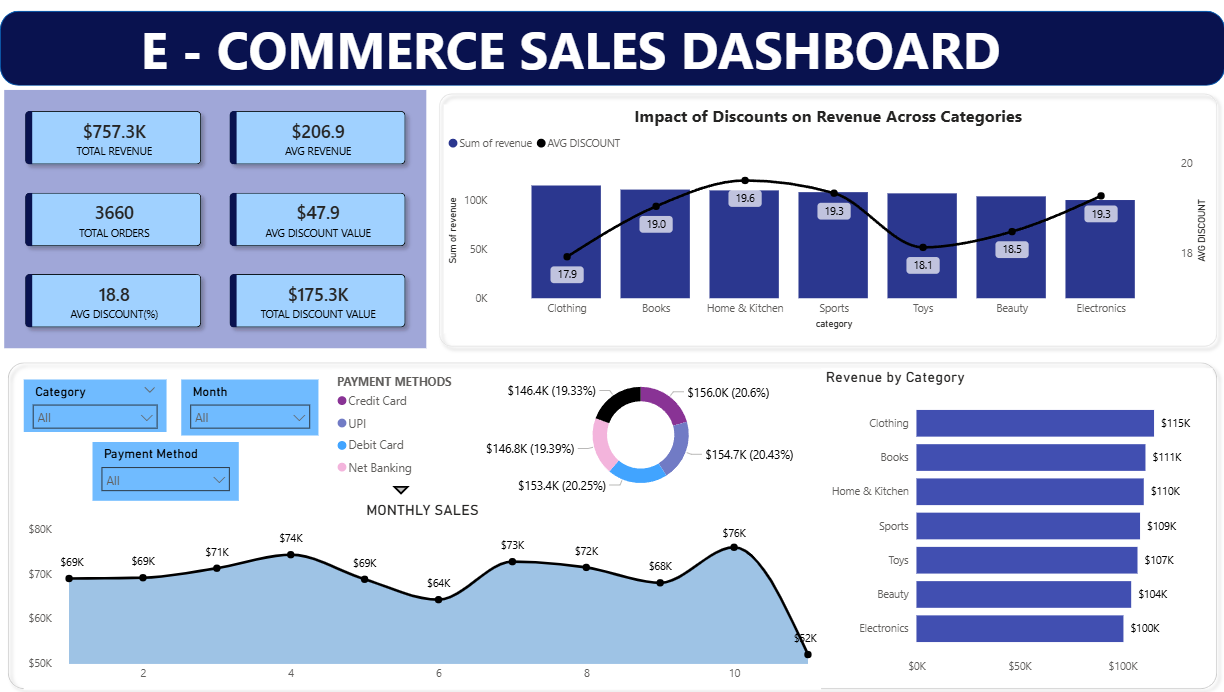

This screenshot's page, from the dashboard's own definition file:
{"tool":"powerbi","page":{"name":"Page 1","canvas":[1400,800],"ordinal":0},"visuals":[{"type":"shape","box":[0,15.7,1400,85.7],"z":0},{"type":"textbox","box":[155,0,1245,115],"z":1000},{"type":"cardVisual","fields":{"Data":["cleaned_ecommerce.TOTAL REVENUE","cleaned_ecommerce.AVG REVENUE","cleaned_ecommerce.NO OF USERS","cleaned_ecommerce.AVG DISCOUNT VALUE","cleaned_ecommerce.AVG DISCOUNT","cleaned_ecommerce.TOTAL DISCOUNT VALUE"]},"box":[0,101.4,492.9,307.1],"z":2000},{"type":"shape","box":[492.9,101.4,907.1,307.1],"z":3000},{"type":"shape","box":[0,408.6,1400,391.4],"z":5000},{"type":"lineChart","title":"MONTHLY SALES","fields":{"Category":["cleaned_ecommerce.month"],"Y":["cleaned_ecommerce.TOTAL REVENUE"]},"box":[27.1,575.7,911.4,215.7],"z":6000},{"type":"donutChart","fields":{"Category":["cleaned_ecommerce.payment_method"],"Y":["cleaned_ecommerce.TOTAL REVENUE"]},"box":[380,425.7,558.6,150],"z":7000},{"type":"slicer","fields":{"Values":["cleaned_ecommerce.category"]},"box":[27.1,437.1,162.9,60],"z":8000},{"type":"slicer","fields":{"Values":["cleaned_ecommerce.payment_method"]},"box":[105.7,508.6,167.1,67.1],"z":9000},{"type":"slicer","fields":{"Values":["cleaned_ecommerce.month"]},"box":[207.1,437.1,157.1,64.3],"z":10000},{"type":"clusteredBarChart","title":"Revenue by Category","fields":{"Category":["cleaned_ecommerce.category"],"Y":["cleaned_ecommerce.TOTAL REVENUE"]},"box":[938.6,424.3,447.1,358.6],"z":10001},{"type":"lineClusteredColumnComboChart","title":"Impact of Discounts on Revenue Across Categories","fields":{"Category":["cleaned_ecommerce.category"],"Y":["Sum(cleaned_ecommerce.revenue)"],"Y2":["cleaned_ecommerce.AVG DISCOUNT"]},"box":[507.1,122.9,878.6,261.4],"z":10003}]}

Visuals, with their boxes in screenshot pixels (x1, y1, x2, y2), scaled from the page's 1400x800 canvas onto the 1224x692 screenshot:
shape: x1=0, y1=14, x2=1223, y2=88
textbox: x1=136, y1=0, x2=1223, y2=99
cardVisual - cleaned_ecommerce.TOTAL REVENUE x cleaned_ecommerce.AVG REVENUE: x1=0, y1=88, x2=431, y2=353
shape: x1=431, y1=88, x2=1223, y2=353
shape: x1=0, y1=353, x2=1223, y2=691
"MONTHLY SALES" lineChart: x1=24, y1=498, x2=821, y2=685
donutChart - cleaned_ecommerce.payment_method x cleaned_ecommerce.TOTAL REVENUE: x1=332, y1=368, x2=821, y2=498
slicer - cleaned_ecommerce.category: x1=24, y1=378, x2=166, y2=430
slicer - cleaned_ecommerce.payment_method: x1=92, y1=440, x2=239, y2=498
slicer - cleaned_ecommerce.month: x1=181, y1=378, x2=318, y2=434
"Revenue by Category" clusteredBarChart: x1=821, y1=367, x2=1211, y2=677
"Impact of Discounts on Revenue Across Categories" lineClusteredColumnComboChart: x1=443, y1=106, x2=1211, y2=332
